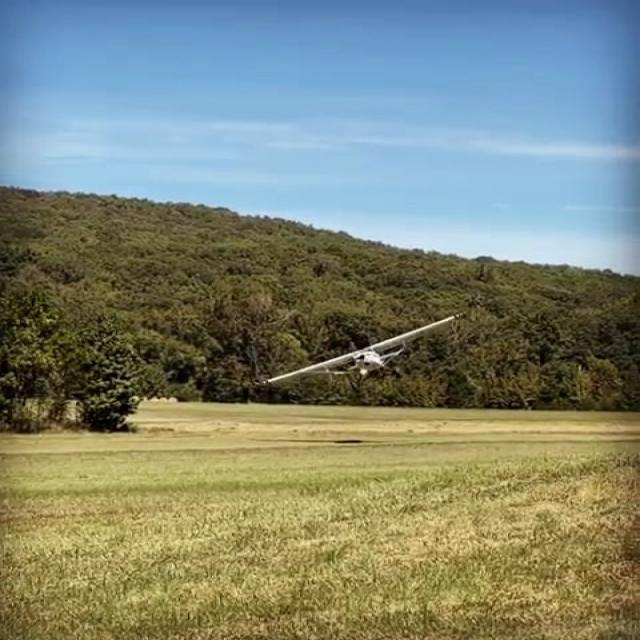iha: (263, 337, 457, 360)
